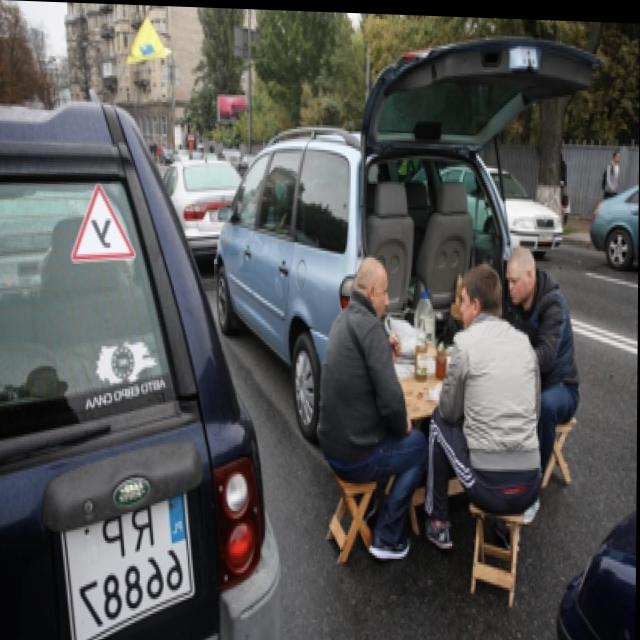licence: (70, 482, 191, 636)
